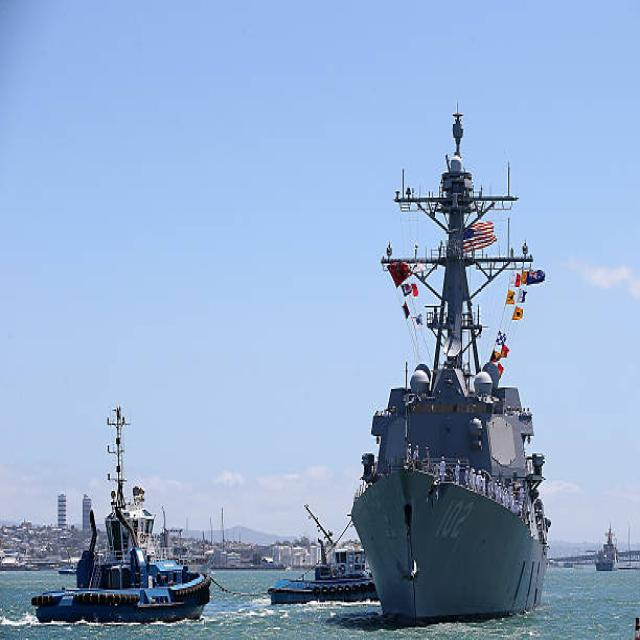Military: (350, 151, 549, 629)
